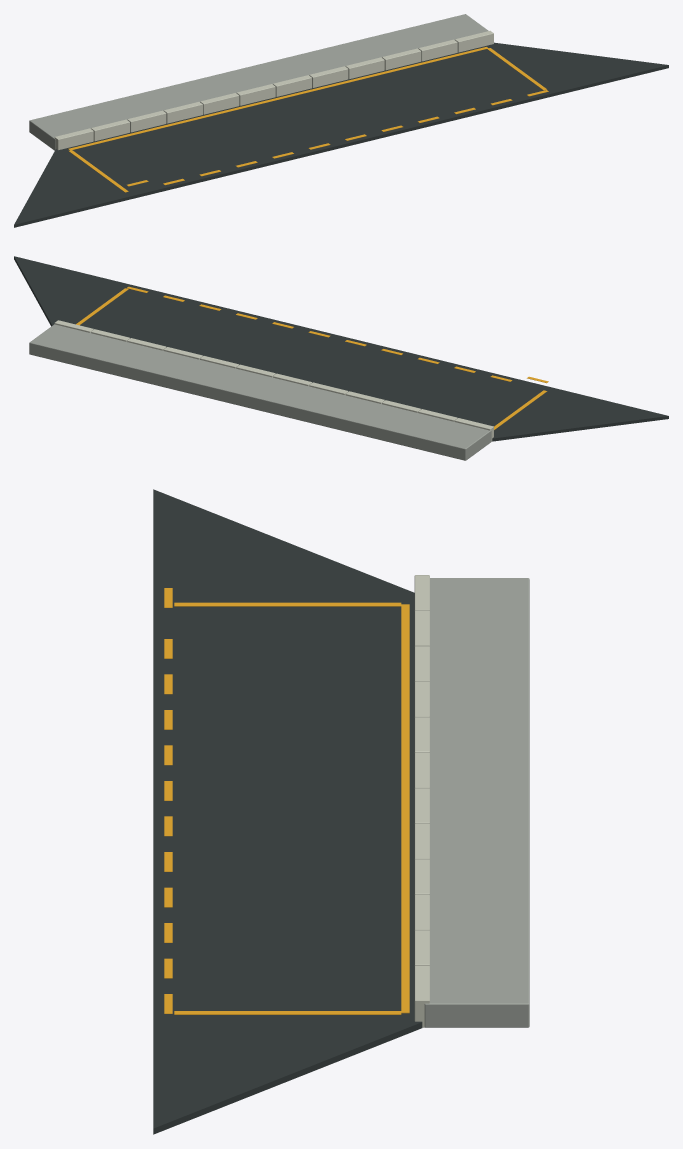
File: source-edit.glb
The picture shows the model from 3 angles, top to bottom: view 1: azimuth 30°, elevation 25°; view 2: azimuth 150°, elevation 25°; view 3: azimuth 270°, elevation 25°; orthographic projection. The views are drawn at different scales.
Parts seen in each view (by area): view 1: BAY_Pavement, PLATFORM_Slab, BAY_RearMark, KERB_0, KERB_9, KERB_2, KERB_5, KERB_4, KERB_8, KERB_10, KERB_11, KERB_3 (+3 smaller); view 2: BAY_Pavement, PLATFORM_Slab; view 3: BAY_Pavement, PLATFORM_Slab, BAY_RearMark, BAY_EndMark.001.
Boxes of the visible parts, x1,y1,x2,y2 form: BAY_Pavement: [14, 42, 668, 227]; PLATFORM_Slab: [29, 14, 488, 150]; BAY_RearMark: [68, 47, 488, 150]; KERB_0: [54, 128, 93, 150]; KERB_9: [382, 48, 421, 70]; KERB_2: [127, 110, 166, 132]; KERB_5: [236, 84, 275, 105]; KERB_4: [200, 93, 239, 114]; KERB_8: [345, 57, 384, 79]; KERB_10: [418, 39, 457, 61]; KERB_11: [455, 30, 493, 52]; KERB_3: [163, 102, 202, 123]; BAY_Pavement: [14, 256, 668, 441]; PLATFORM_Slab: [29, 324, 491, 460]; BAY_Pavement: [153, 489, 422, 1134]; PLATFORM_Slab: [424, 578, 529, 1027]; BAY_RearMark: [401, 604, 409, 1013]; BAY_EndMark.001: [174, 602, 401, 606].
Size of the model in its own units: 18 by 0.36 by 4.48.
